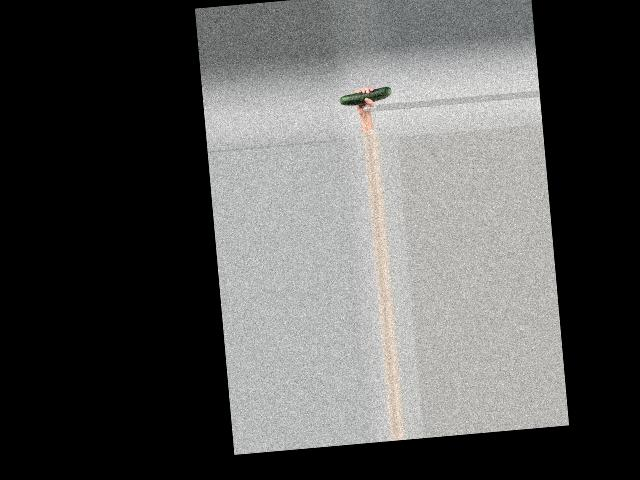cucumber: (340, 86, 392, 106)
